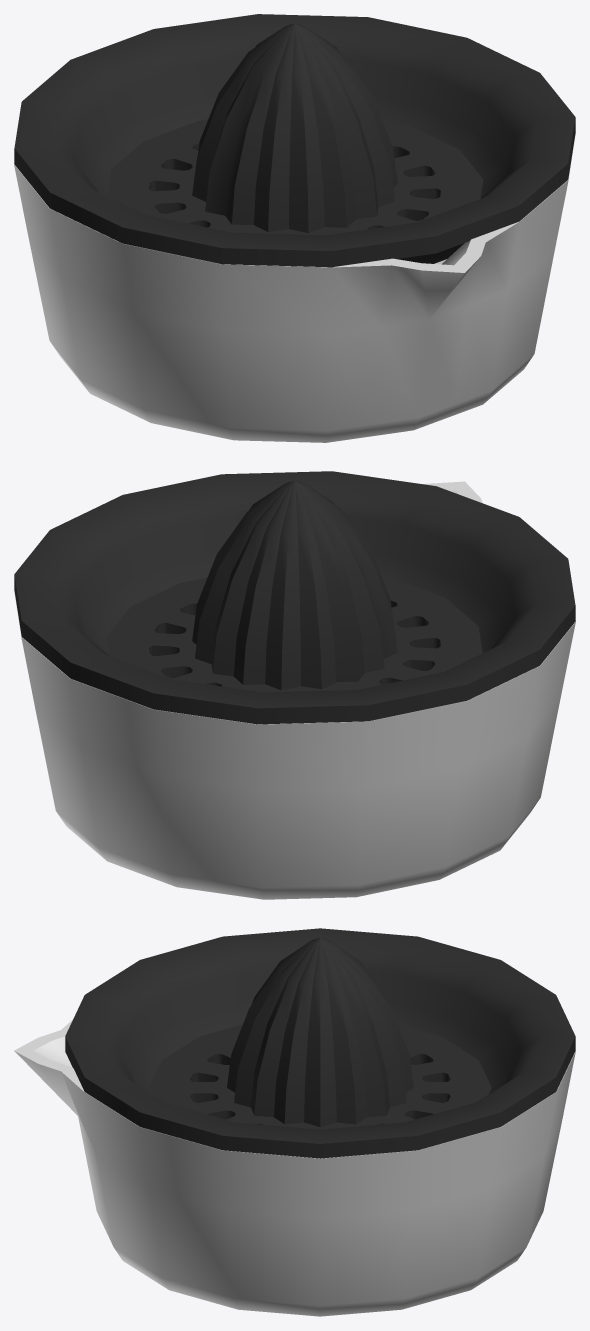
File: LemonSqueezer_01_Bowl.fbx
3 renders of one model, top to bottom at view 1: azimuth 30°, elevation 25°; view 2: azimuth 150°, elevation 25°; view 3: azimuth 270°, elevation 25°, orthographic. The views are drawn at different scales.
Parts seen in each view (by area): view 1: LemonSqueezer_01, LemonSqueezer_01_Bowl; view 2: LemonSqueezer_01, LemonSqueezer_01_Bowl; view 3: LemonSqueezer_01, LemonSqueezer_01_Bowl.
Boxes of the visible parts, x1,y1,x2,y2 form: LemonSqueezer_01: [14, 14, 575, 267]; LemonSqueezer_01_Bowl: [14, 133, 575, 442]; LemonSqueezer_01: [14, 471, 575, 724]; LemonSqueezer_01_Bowl: [14, 481, 575, 899]; LemonSqueezer_01: [65, 928, 575, 1158]; LemonSqueezer_01_Bowl: [14, 1020, 575, 1316].
Size of the model in its own units: 0.1776 by 0.113 by 0.1952.
